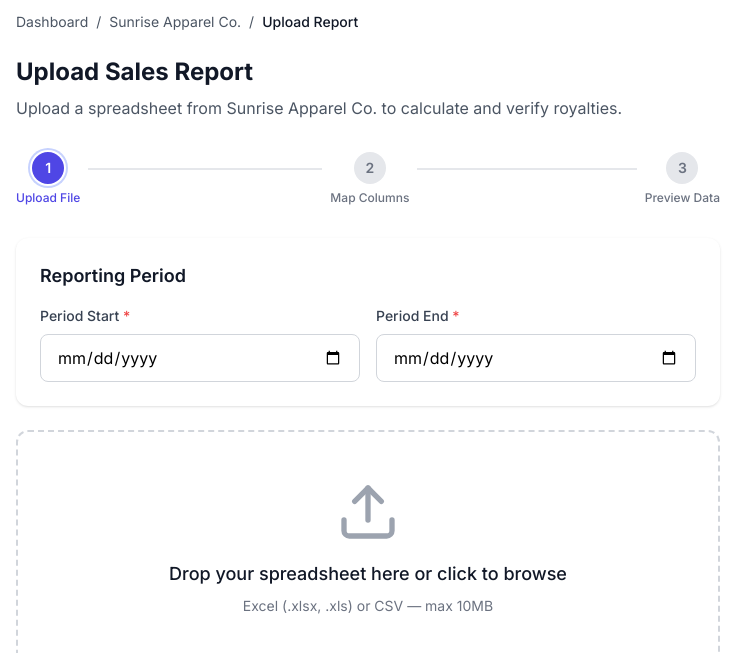
Test case: Sales Upload Wizard — Gap 3: Contract date range and frequency validation › shows contract-range warning when period is outside contract dates
Type "2026-01-01" into the date field labelled "Period Start *" at (200, 358), box top-left (40, 334), bottom-right (360, 382)
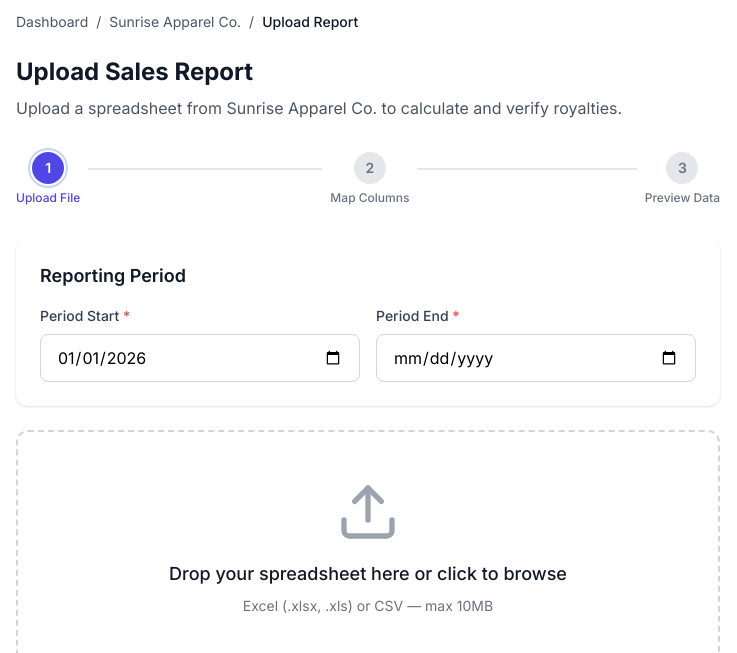
Type "2026-03-31" into the date field labelled "Period End *" at (536, 358), box top-left (376, 334), bottom-right (696, 382)
Wait 400 ms
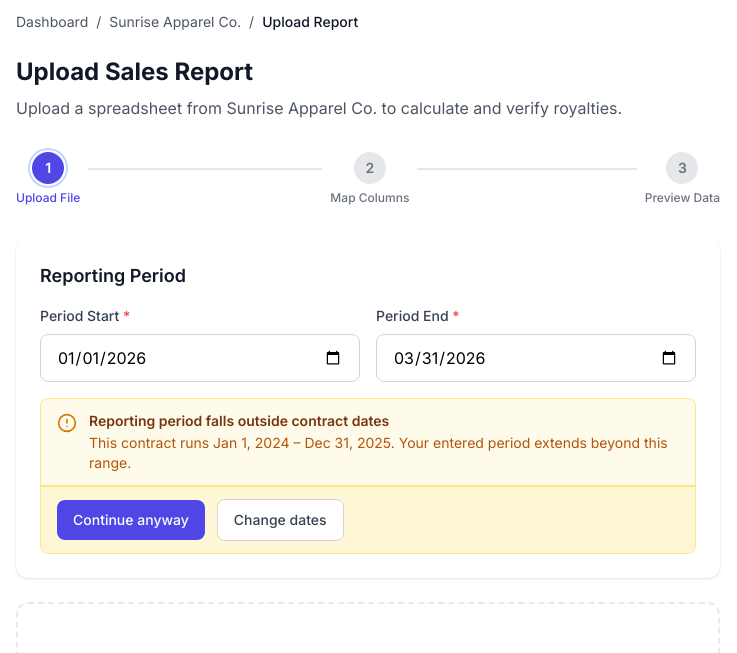
Expected: the text "Reporting period falls outside contract dates" is shown, top-left (89, 412), bottom-right (389, 429)
